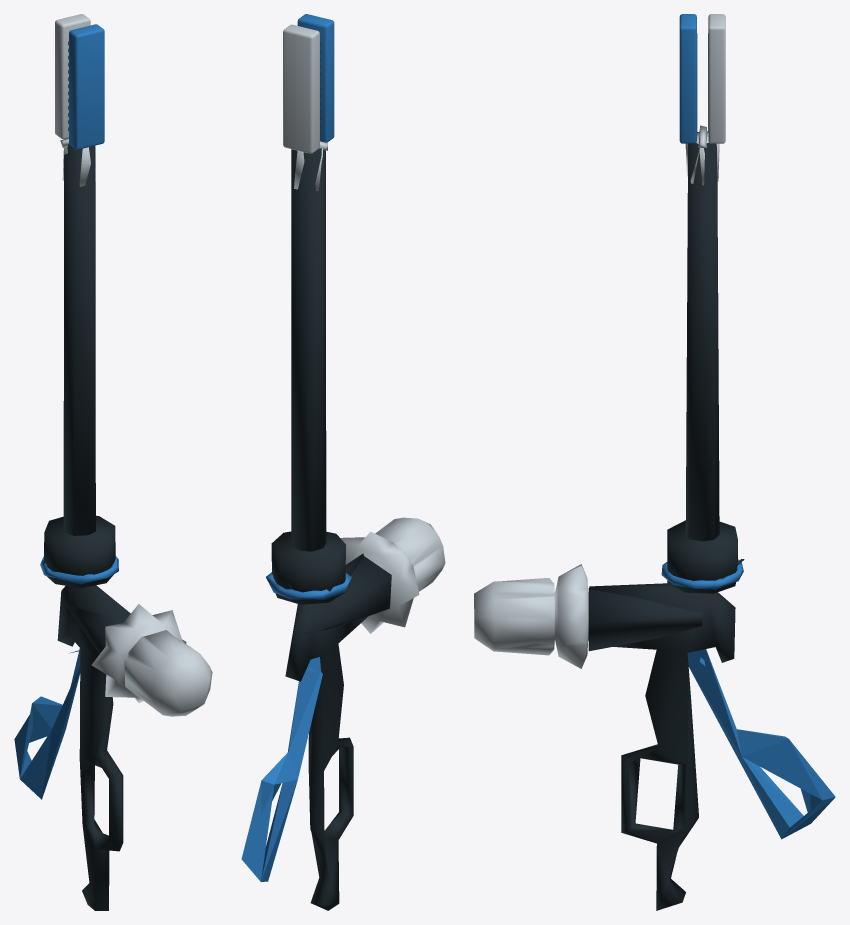
File: inst_endo_stapler.fbx
3 renders of one model, left to right at view 1: azimuth 30°, elevation 25°; view 2: azimuth 150°, elevation 25°; view 3: azimuth 270°, elevation 25°, orthographic. The views are drawn at different scales.
Visible parts, largest first — view 1: inst_endo_stapler_Geometry, JawLower_Geometry, Trigger_Geometry, JawUpper_Geometry; view 2: inst_endo_stapler_Geometry, Trigger_Geometry, JawUpper_Geometry, JawLower_Geometry; view 3: inst_endo_stapler_Geometry, Trigger_Geometry, JawLower_Geometry, JawUpper_Geometry.
Part boxes in pixels (box(x1,y1,x2,y2)): inst_endo_stapler_Geometry: box(40, 138, 212, 910); JawLower_Geometry: box(69, 24, 104, 149); Trigger_Geometry: box(14, 648, 80, 799); JawUpper_Geometry: box(55, 14, 90, 139); inst_endo_stapler_Geometry: box(266, 141, 445, 910); Trigger_Geometry: box(241, 657, 322, 881); JawUpper_Geometry: box(283, 24, 319, 153); JawLower_Geometry: box(297, 14, 334, 142); inst_endo_stapler_Geometry: box(474, 125, 744, 910); Trigger_Geometry: box(687, 649, 835, 839); JawLower_Geometry: box(679, 14, 697, 143); JawUpper_Geometry: box(708, 14, 725, 143).
Bounding box in the file's own units: 0.039 × 0.3409 × 0.1259.
